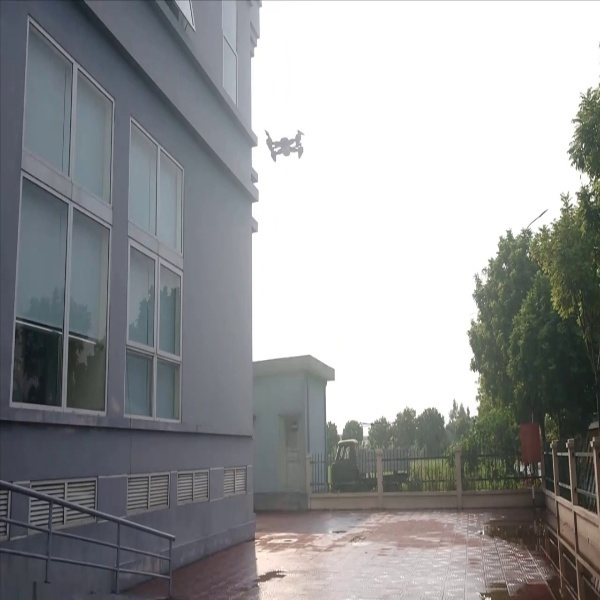drone: (258, 123, 310, 167)
